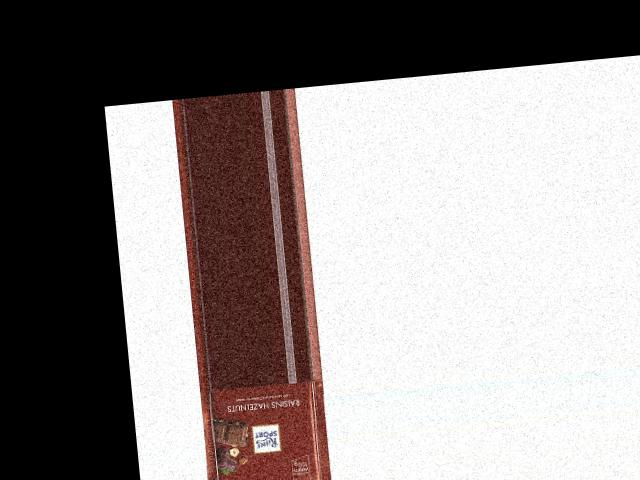chocolate: (197, 378, 331, 480)
